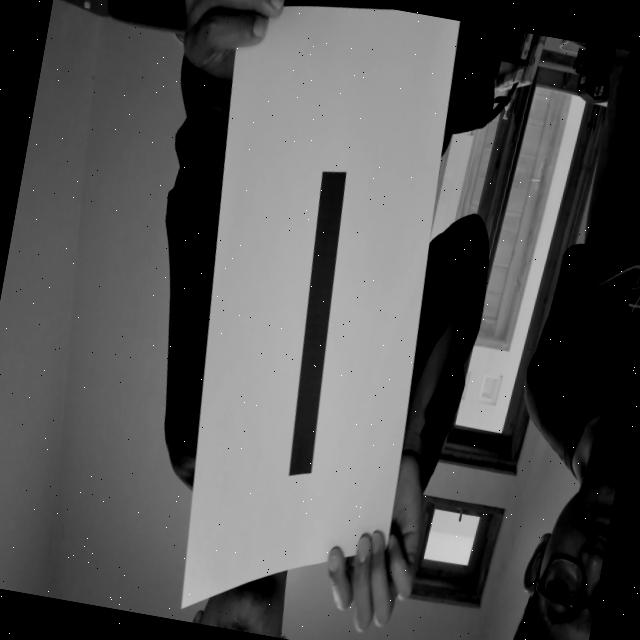i: (241, 140, 398, 526)
